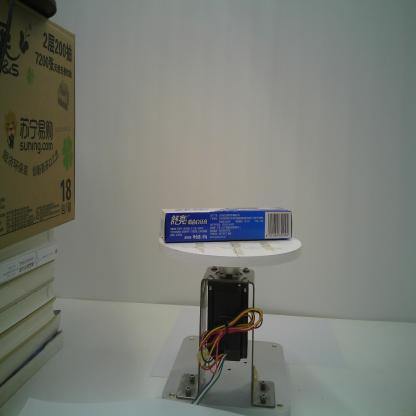Personal Hygiene: (159, 205, 293, 244)
